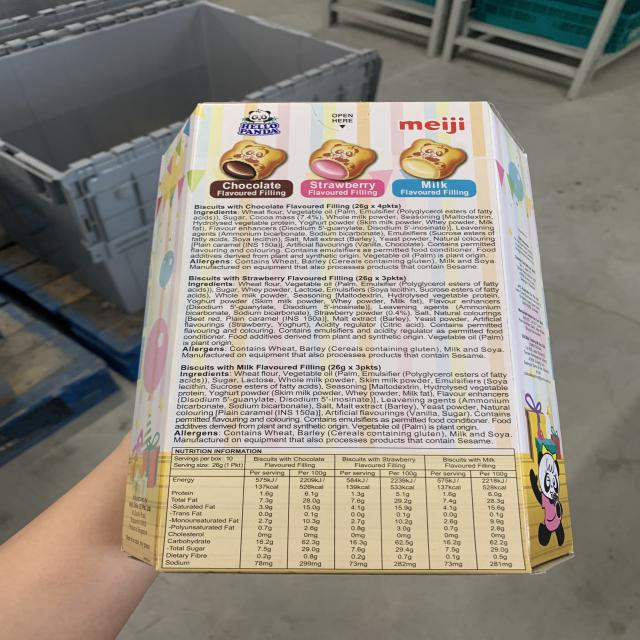object_name: (158, 109, 556, 569)
